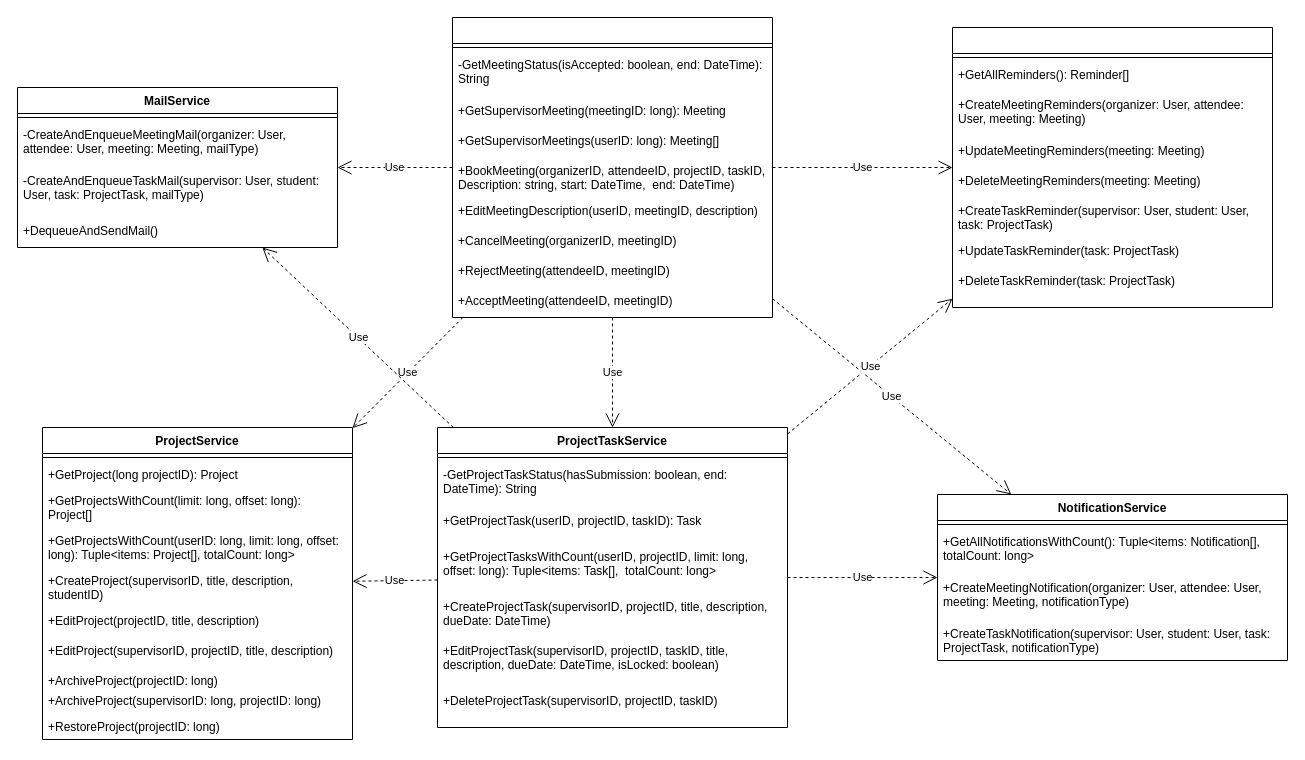
This 1305x760 diagram has some shape labels left out. The box of each missing label's shape, as (x1, y1, x2, y2) in pixels:
MeetingService: (452, 16, 772, 318)
ReminderService: (952, 26, 1272, 308)
